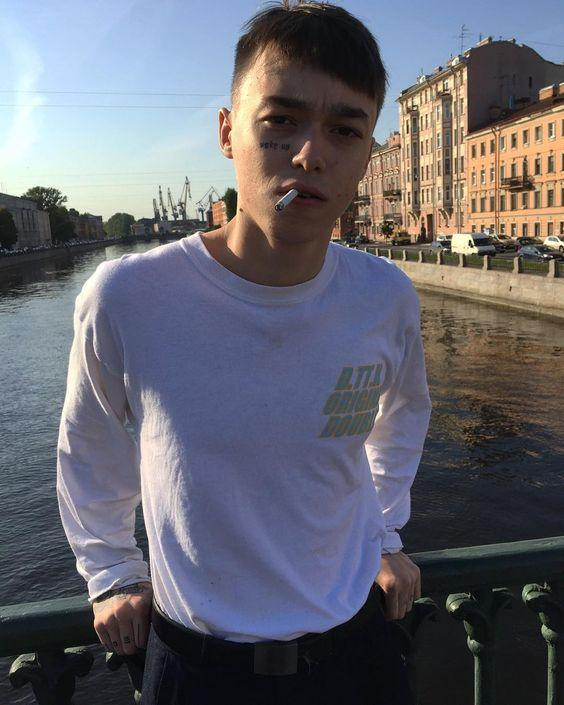cigarette: (274, 188, 299, 212)
